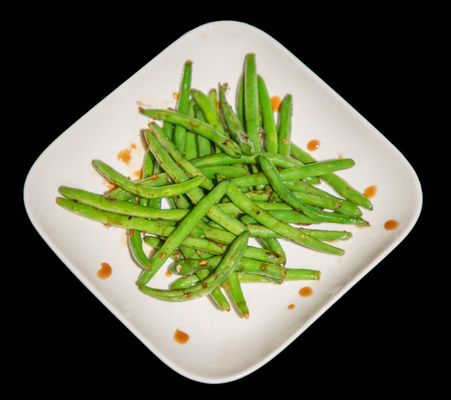sushi: (1, 21, 422, 387)
